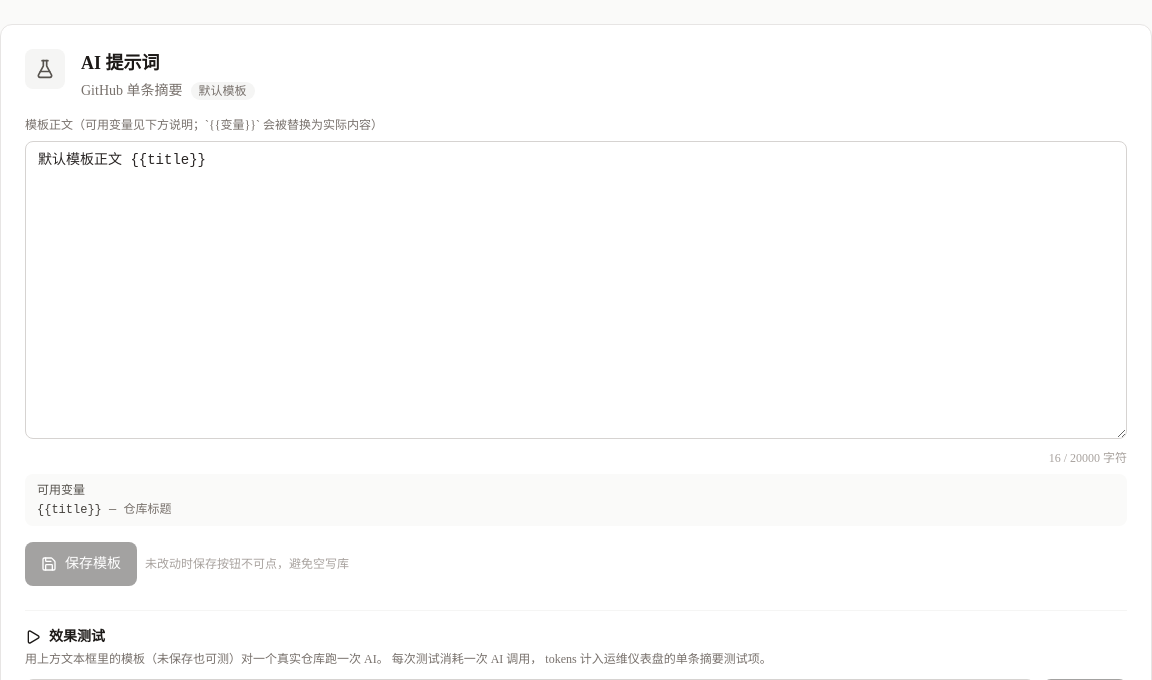
PromptEditor › 保存被服务端拒绝时展示错误信息
Replace the text in the text box labelled "模板正文（可用变量见下方说明；`{{变量}}` 会被替换为实际内容）" with "x" at (576, 290), box [25,141,1127,439]
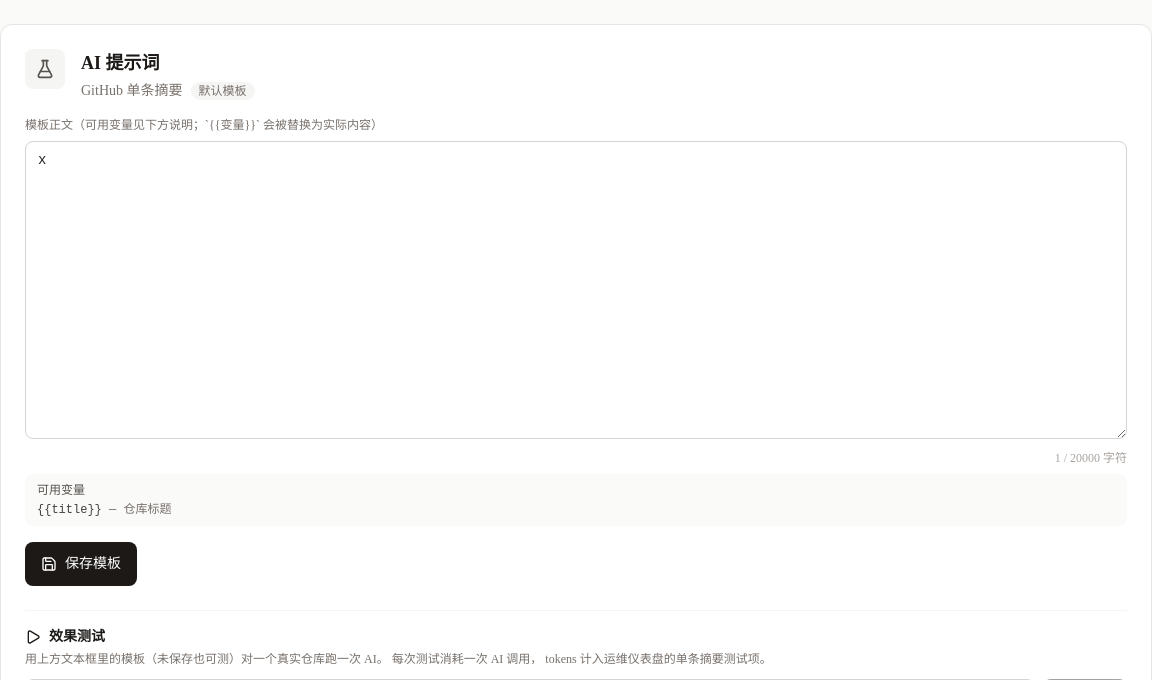
Click the button "保存模板" at (81, 564), box [25,542,137,586]
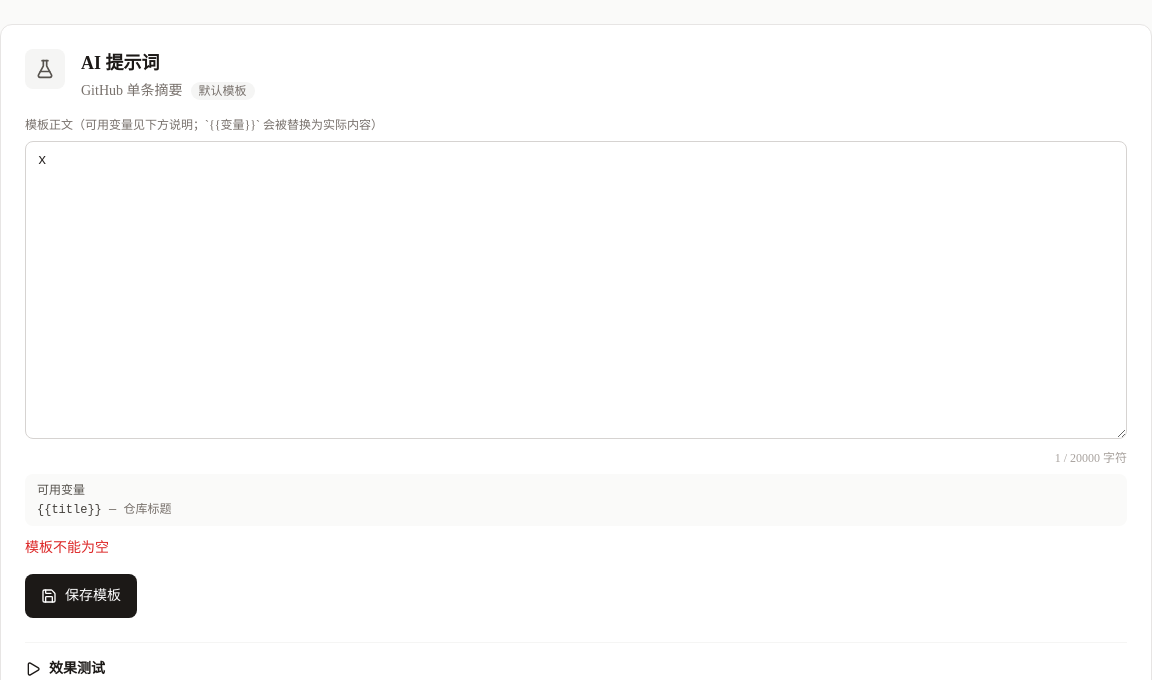
Expected: the text "模板不能为空" is shown, [25,540,109,555]
